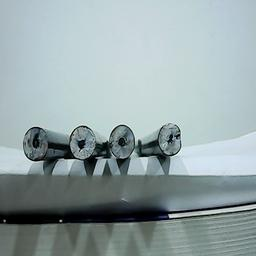pen: (21, 126, 50, 162), (68, 124, 97, 160), (106, 123, 135, 159), (155, 121, 182, 155)
